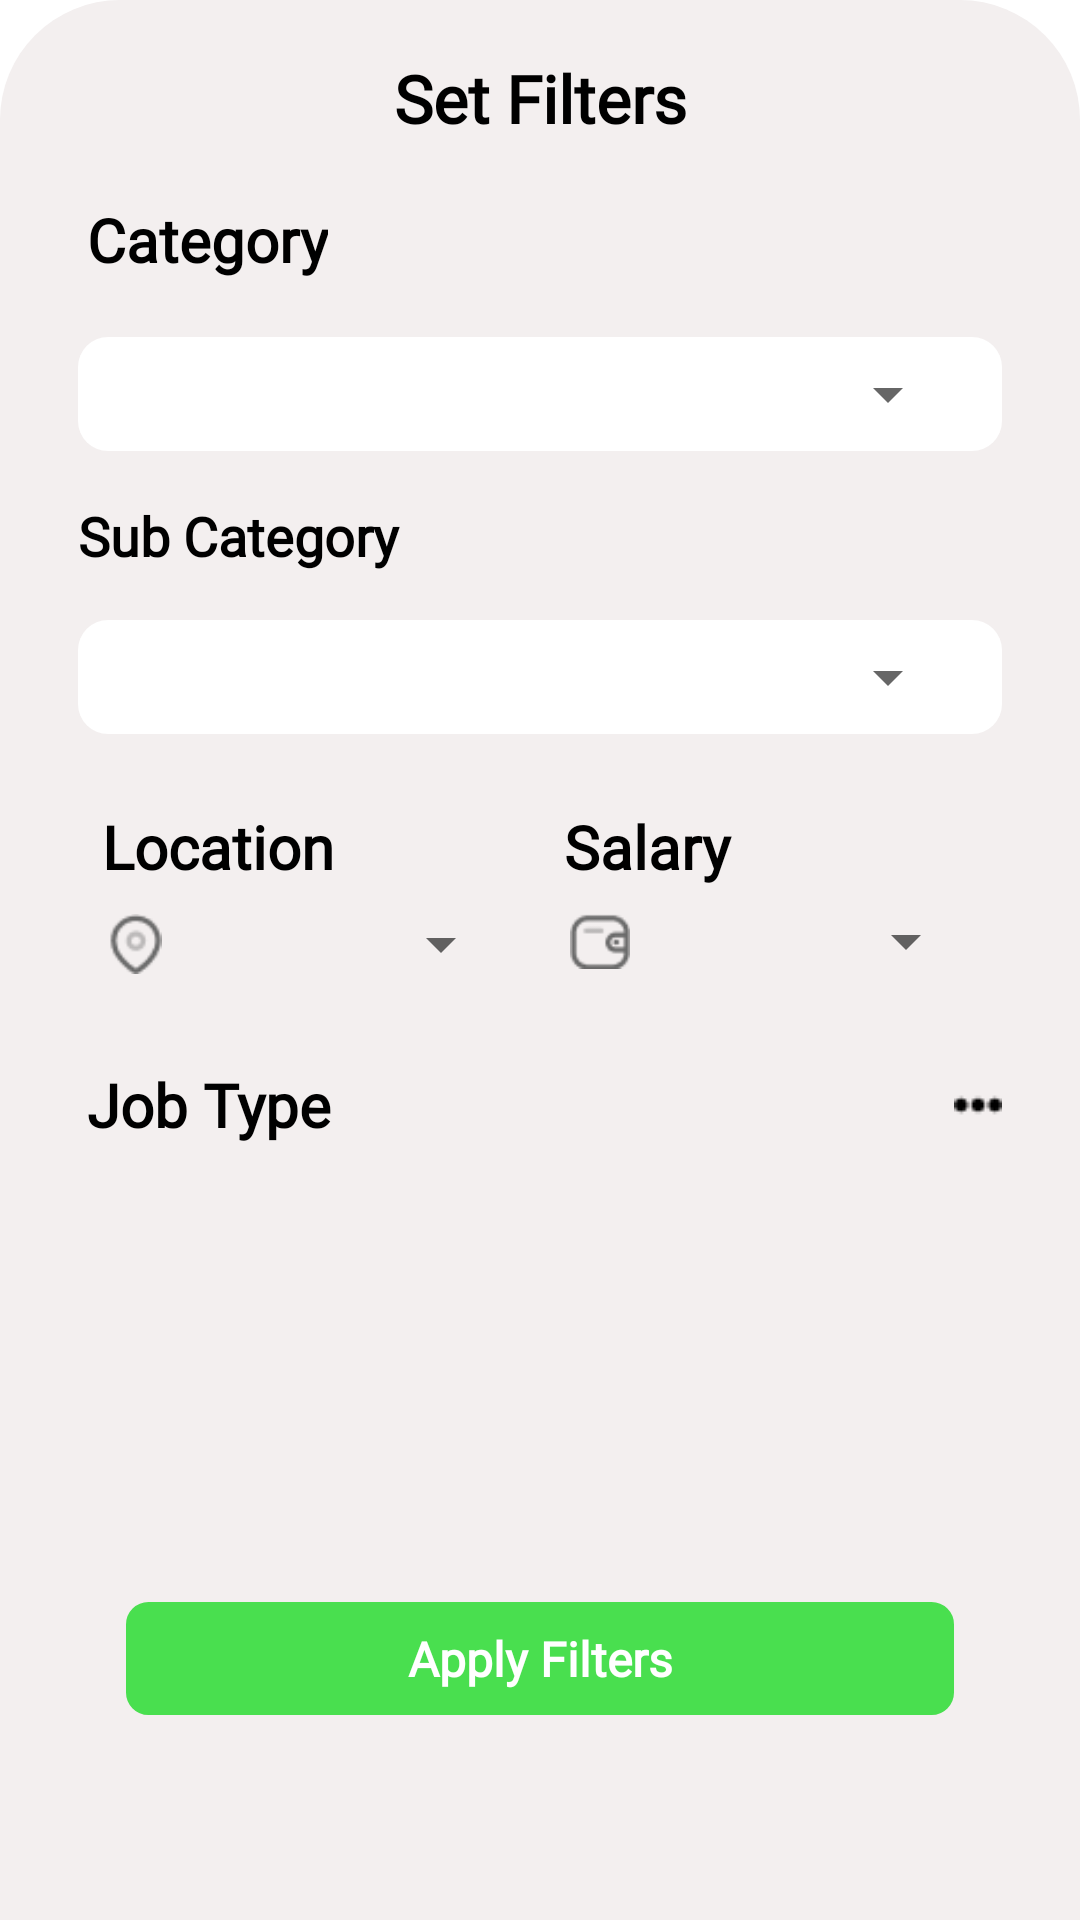

Screen size 1080*1920. Icon name, then its center in pixels as (x,y):
dots: (978,1105)
wallet: (600,942)
